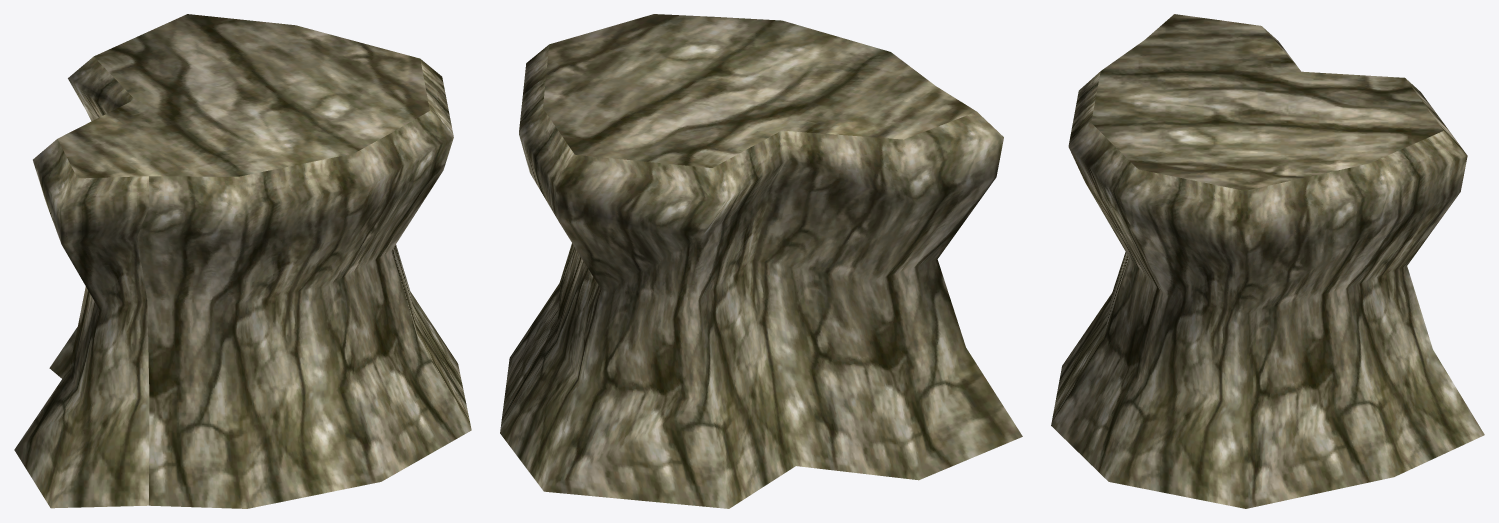
Rendered from CB_NEWPLAYSURFACE_CB_PLAYSURFACE04.fbx.
3 renders of one model, left to right at view 1: azimuth 30°, elevation 25°; view 2: azimuth 150°, elevation 25°; view 3: azimuth 270°, elevation 25°, orthographic. The views are drawn at different scales.
Visible parts, largest first — view 1: CB_NEWPLAYSURFACE_CB_PLAYSURFACE04; view 2: CB_NEWPLAYSURFACE_CB_PLAYSURFACE04; view 3: CB_NEWPLAYSURFACE_CB_PLAYSURFACE04.
Boxes of the visible parts, x1,y1,x2,y2 form: CB_NEWPLAYSURFACE_CB_PLAYSURFACE04: (14, 14, 471, 508); CB_NEWPLAYSURFACE_CB_PLAYSURFACE04: (500, 14, 1022, 508); CB_NEWPLAYSURFACE_CB_PLAYSURFACE04: (1051, 14, 1484, 508).
Size of the model in its own units: 84242 by 55787 by 73059.
Materials: 2 (2 with a texture image).
